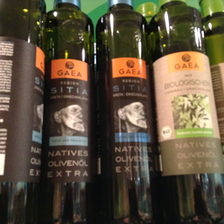oil: (147, 1, 224, 223), (95, 1, 155, 223), (42, 1, 96, 224), (1, 1, 47, 224)
